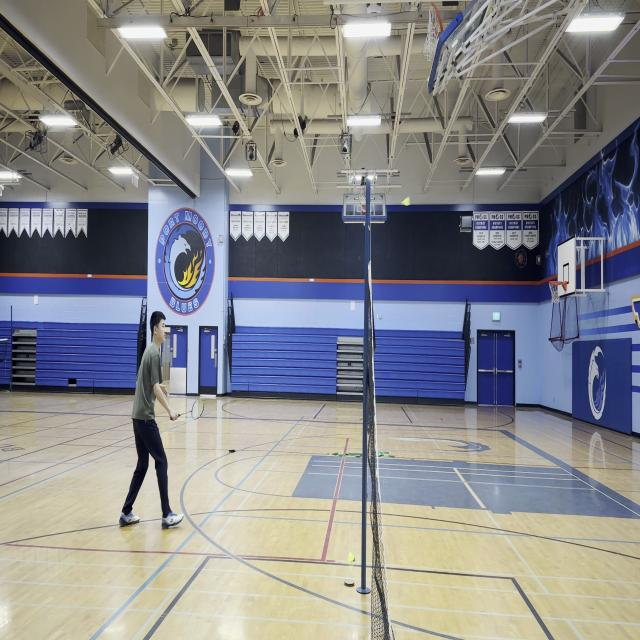shuttlecock: (401, 196, 411, 206)
